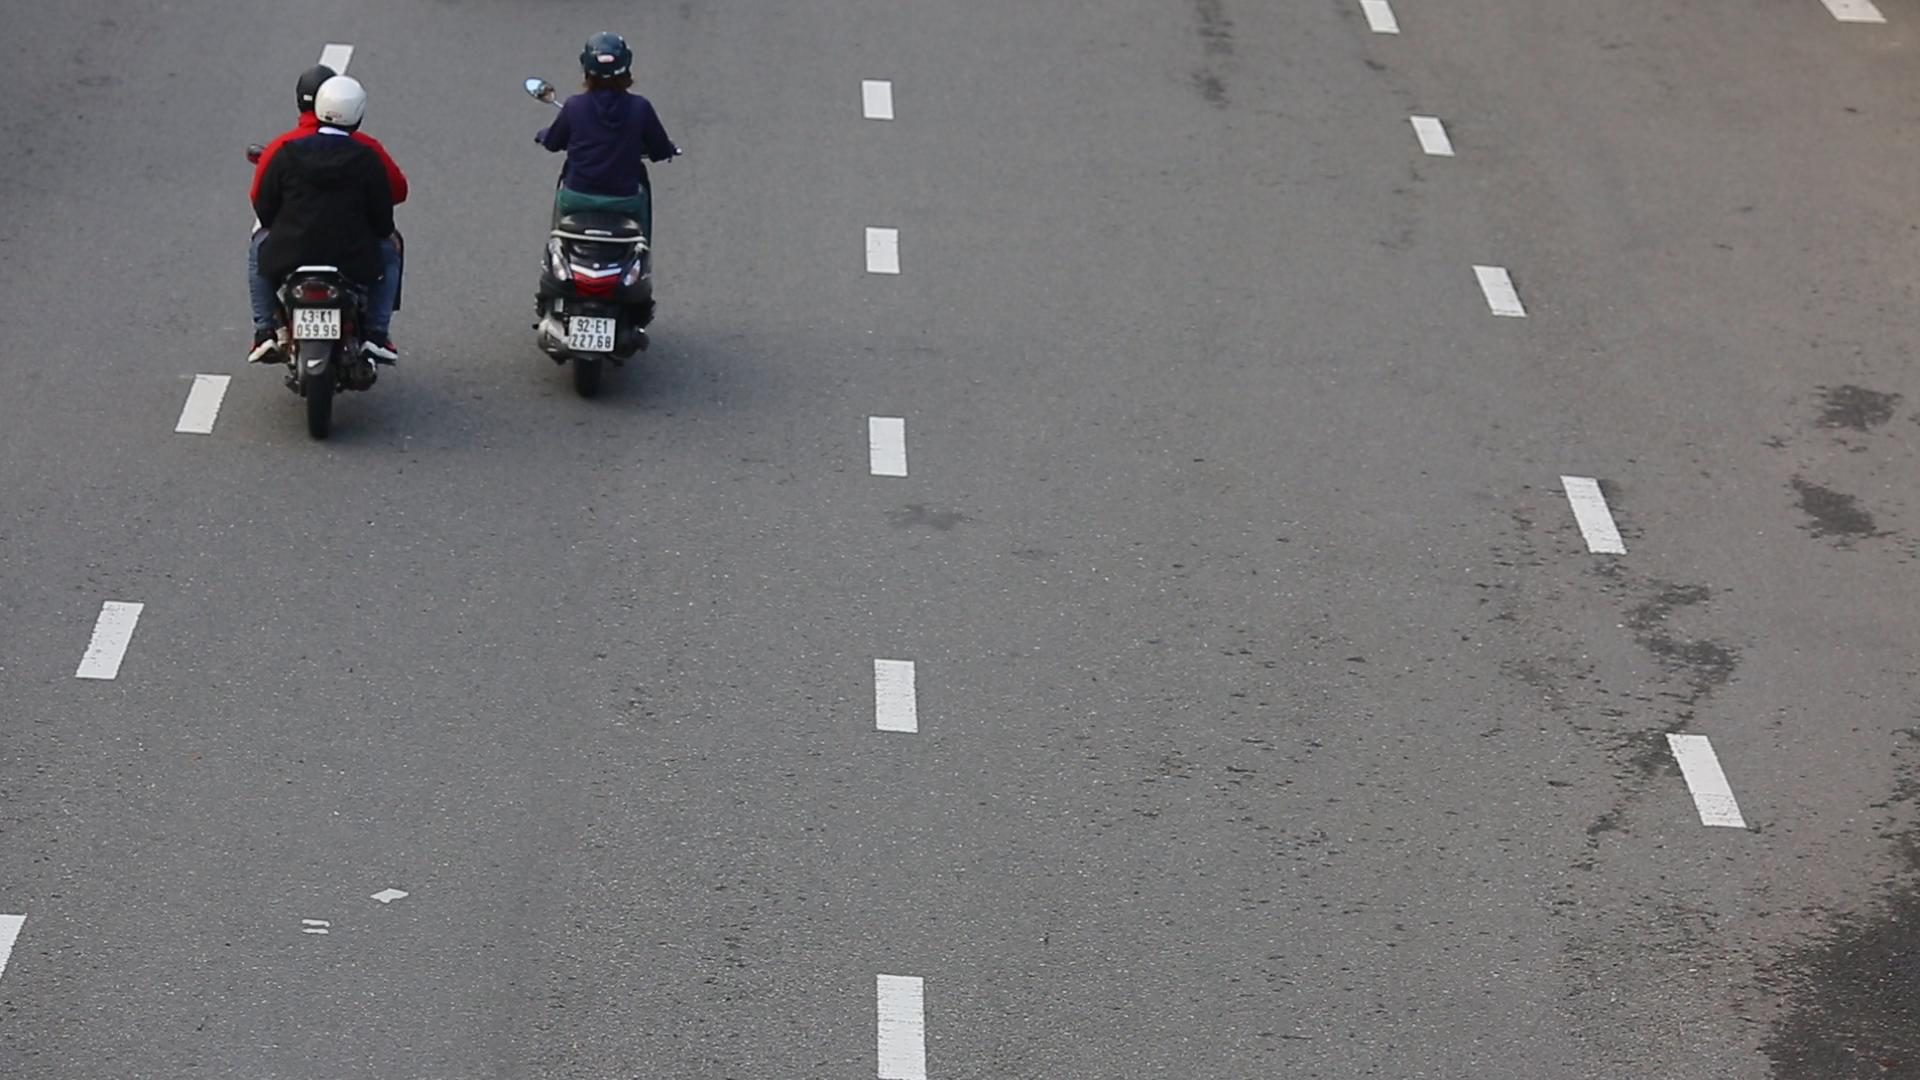motobike: (244, 55, 411, 443), (518, 26, 684, 382)
